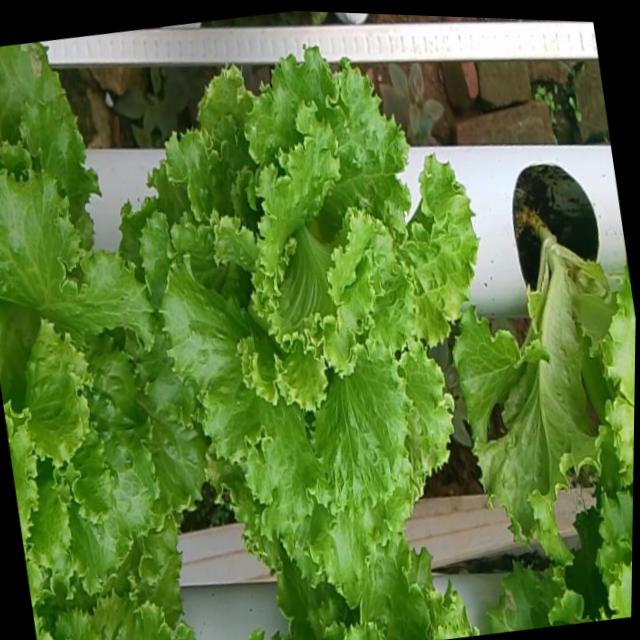Mature: (144, 29, 482, 571), (0, 143, 210, 579)
